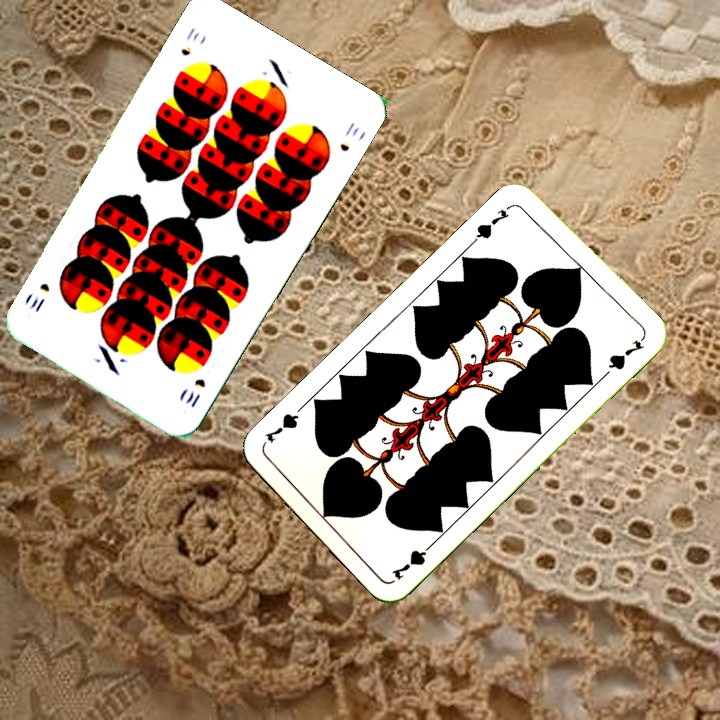G7: (387, 537, 438, 583), (469, 200, 516, 246)
S10: (181, 374, 209, 410), (176, 23, 203, 59)
